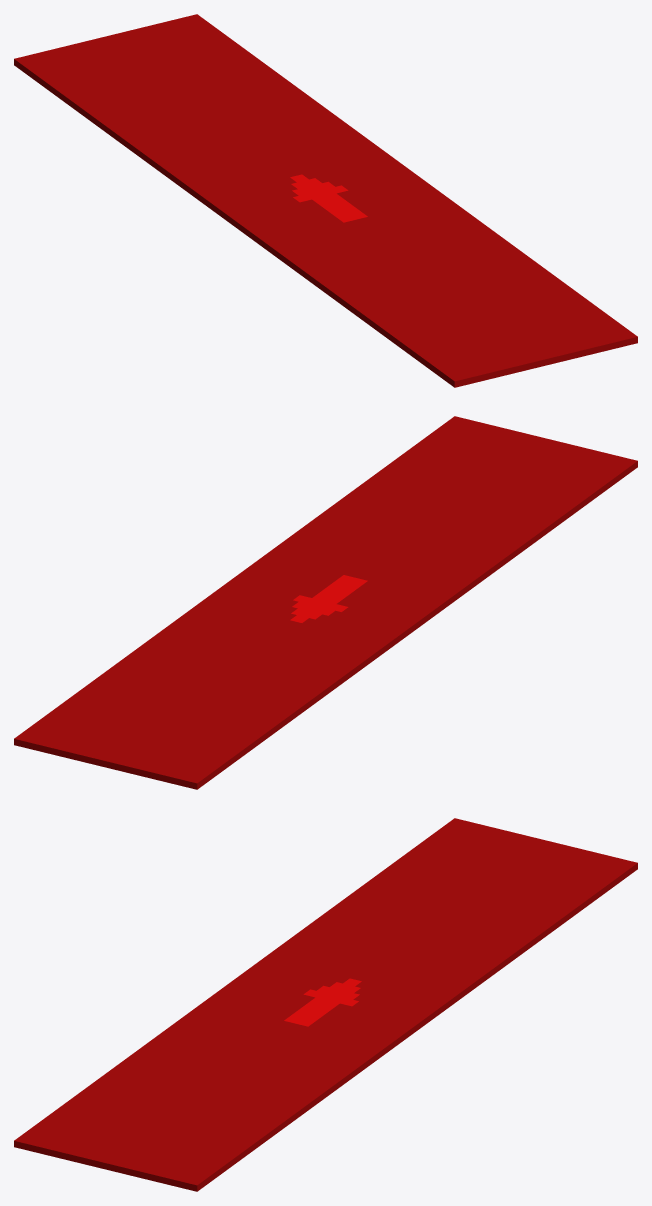
Rendered from bus-lane.obj.
3 renders of one model, top to bottom at view 1: azimuth 30°, elevation 25°; view 2: azimuth 150°, elevation 25°; view 3: azimuth 330°, elevation 25°, orthographic.
Size of the model in its own units: 30 by 1 by 125.
